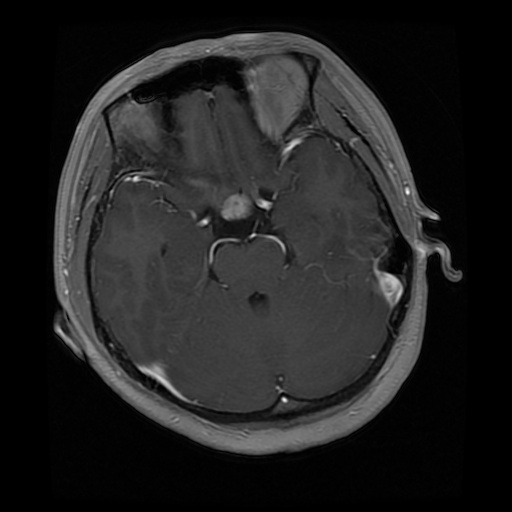pituitary: (220, 194, 254, 220)
